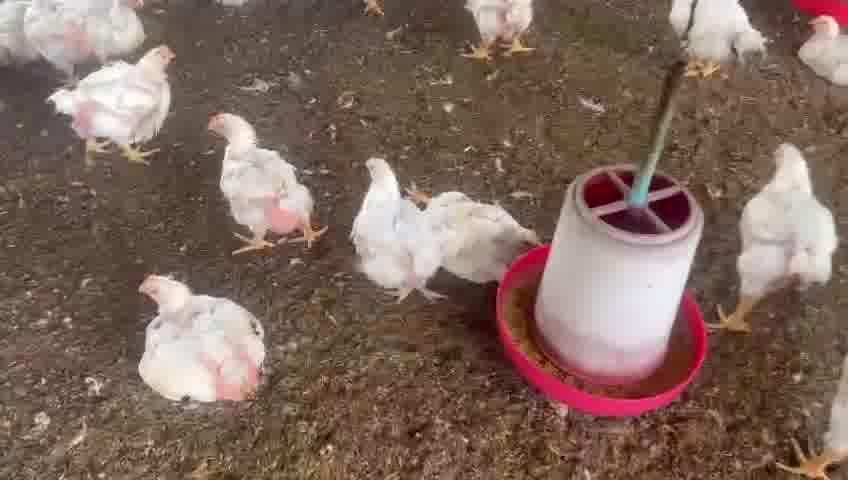AbNormal: (403, 169, 549, 283), (795, 6, 848, 93)
Normal: (714, 139, 845, 336), (186, 100, 329, 251), (134, 270, 274, 411), (42, 46, 178, 160), (340, 147, 436, 302), (659, 0, 770, 89), (29, 0, 159, 65)
